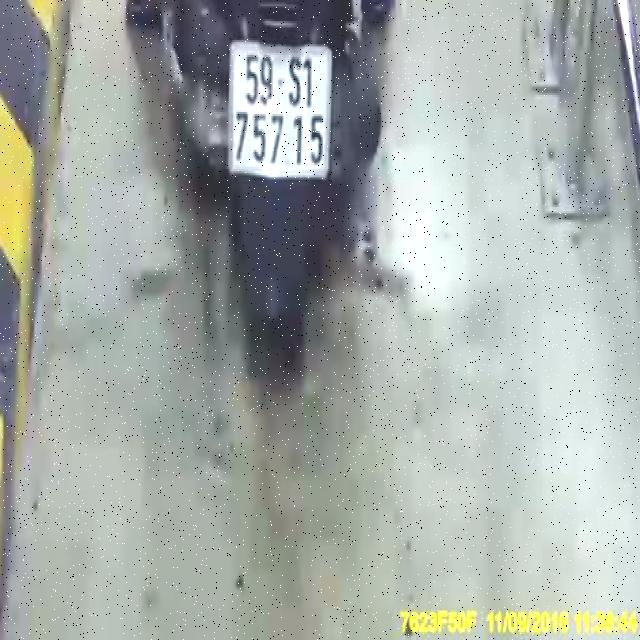1: (301, 56, 315, 111), (292, 114, 304, 168)
5: (249, 114, 269, 166), (310, 111, 326, 169), (242, 48, 258, 104)
7: (234, 106, 250, 169), (268, 114, 286, 168)
9: (258, 54, 274, 106)
S: (289, 53, 302, 110)
